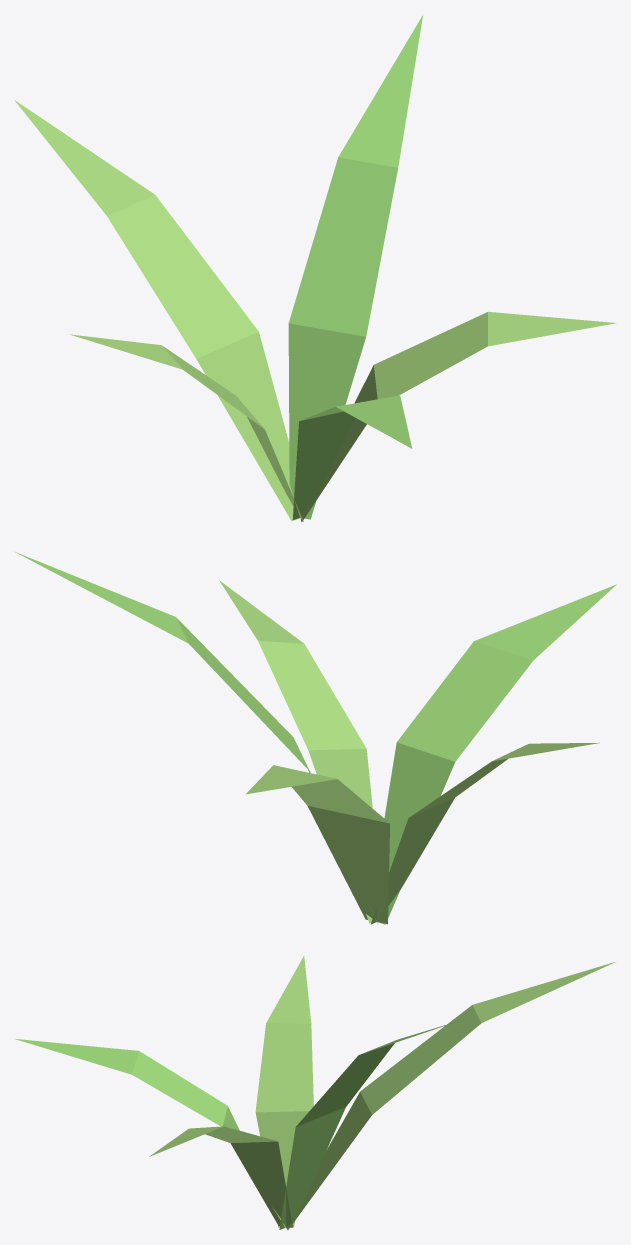
File: Plant_e_TwoS_05.fbx
3 renders of one model, top to bottom at view 1: azimuth 30°, elevation 25°; view 2: azimuth 150°, elevation 25°; view 3: azimuth 270°, elevation 25°, orthographic. The views are drawn at different scales.
Visible parts, largest first — view 1: Plant_e_TwoS_05; view 2: Plant_e_TwoS_05; view 3: Plant_e_TwoS_05.
Part boxes in pixels (x1,y1,x2,y2): Plant_e_TwoS_05: (14, 14, 616, 522); Plant_e_TwoS_05: (14, 551, 616, 924); Plant_e_TwoS_05: (15, 955, 615, 1229).
Bounding box in the file's own units: 0.6041 × 0.4721 × 0.8629.
